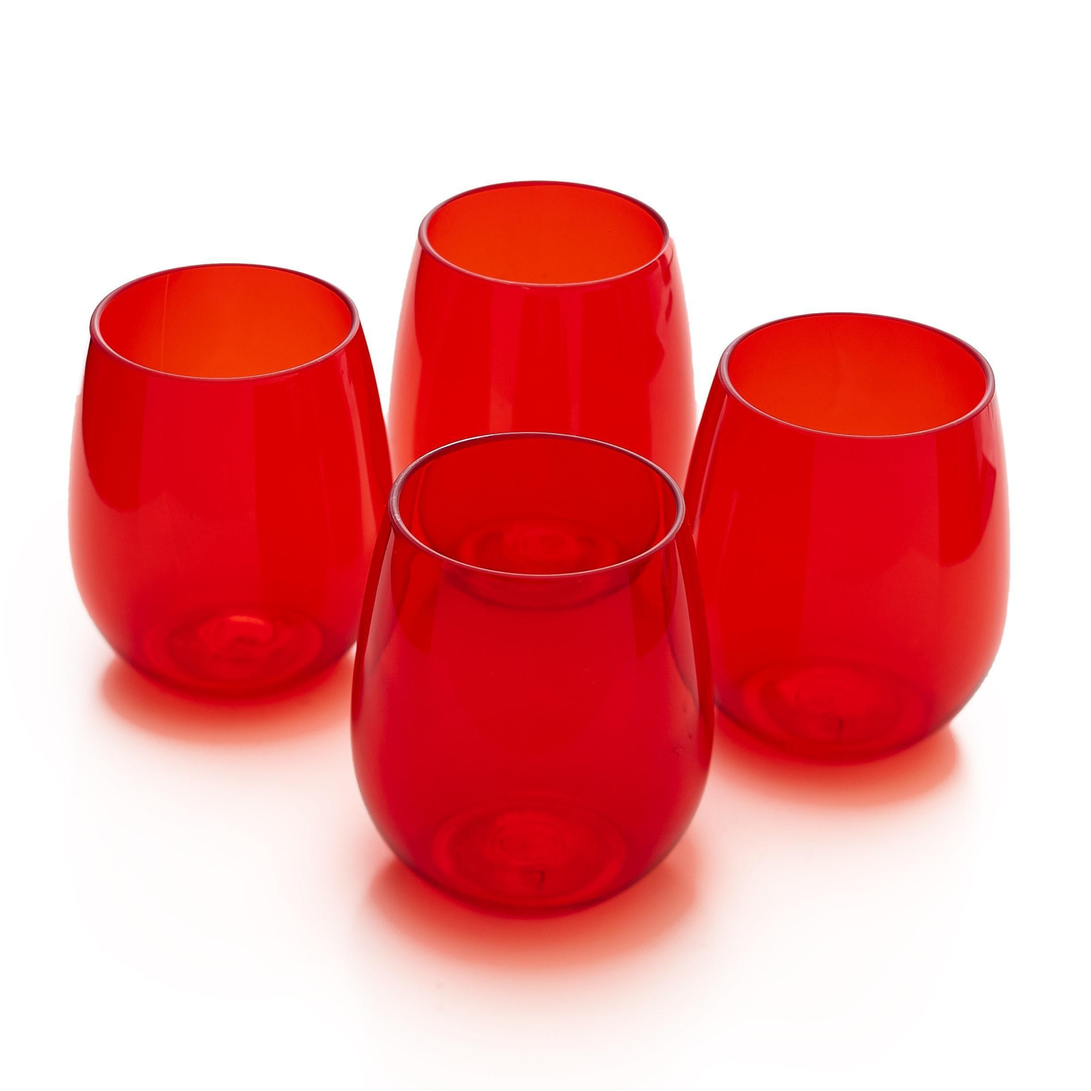glass-normal: (346, 426, 722, 918), (678, 307, 1013, 770), (64, 258, 396, 696), (387, 179, 701, 469)
